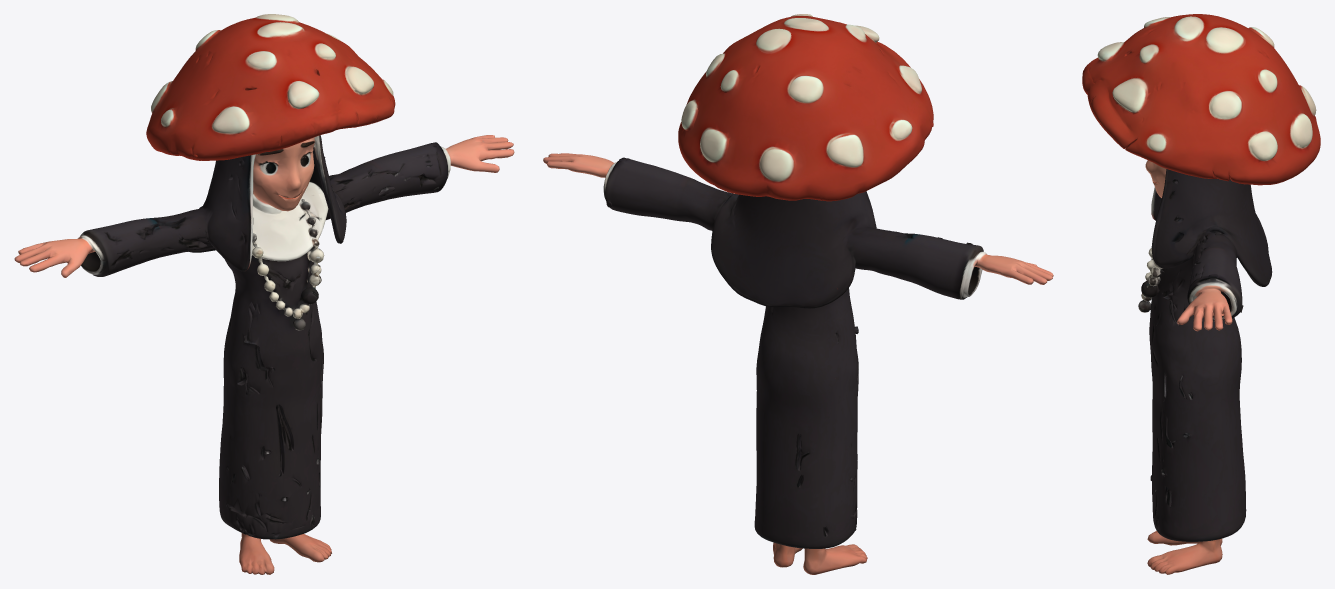
Rendered from sister_verdigris.glb.
3 renders of one model, left to right at view 1: azimuth 30°, elevation 25°; view 2: azimuth 150°, elevation 25°; view 3: azimuth 270°, elevation 25°, orthographic. The views are drawn at different scales.
Parts seen in each view (by area): view 1: tripo_node_a6435071-9880-409d-b0c3-1db3448a41c9; view 2: tripo_node_a6435071-9880-409d-b0c3-1db3448a41c9; view 3: tripo_node_a6435071-9880-409d-b0c3-1db3448a41c9.
Part boxes in pixels (bbox=[...]): tripo_node_a6435071-9880-409d-b0c3-1db3448a41c9: bbox=[14, 14, 514, 574]; tripo_node_a6435071-9880-409d-b0c3-1db3448a41c9: bbox=[543, 14, 1053, 574]; tripo_node_a6435071-9880-409d-b0c3-1db3448a41c9: bbox=[1082, 14, 1320, 574].
Size of the model in its own units: 0.9565 by 0.9802 by 0.3965.
Materials: 1 (1 with a texture image).
